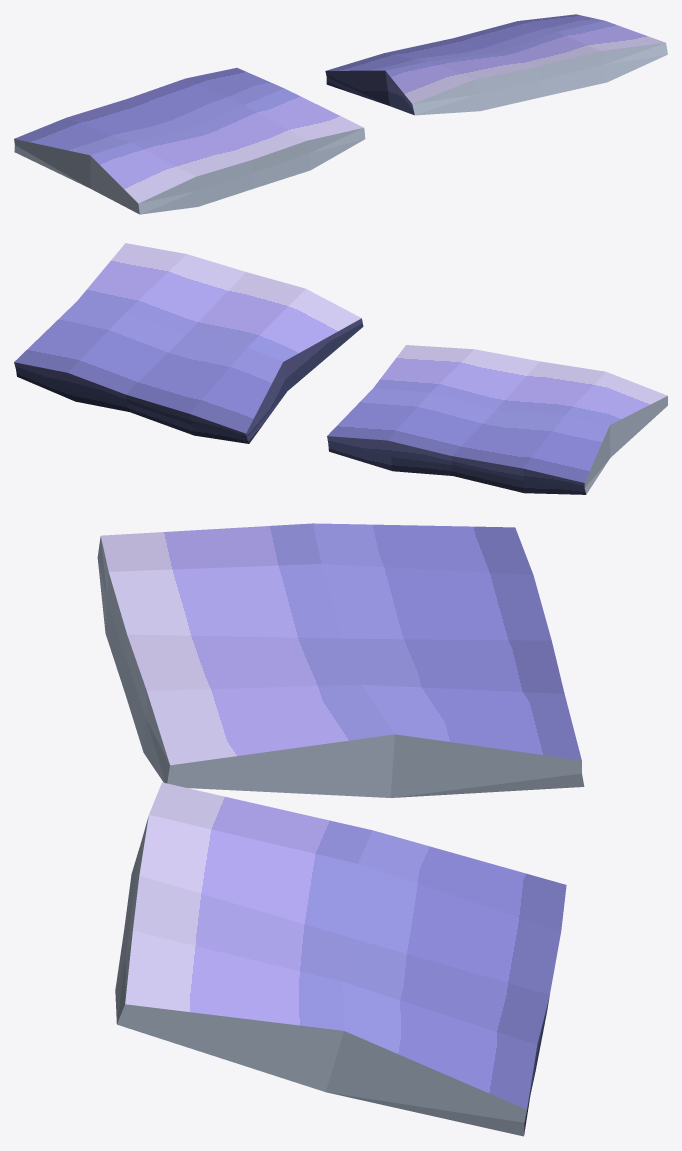
File: Accesories_pillows.001.glb
The picture shows the model from 3 angles, top to bottom: view 1: azimuth 30°, elevation 25°; view 2: azimuth 150°, elevation 25°; view 3: azimuth 270°, elevation 25°; orthographic projection. The views are drawn at different scales.
Visible parts, largest first — view 1: Accesories_pillows.001; view 2: Accesories_pillows.001; view 3: Accesories_pillows.001.
Boxes of the visible parts, x1,y1,x2,y2 form: Accesories_pillows.001: (14, 14, 667, 214); Accesories_pillows.001: (14, 243, 667, 494); Accesories_pillows.001: (97, 523, 584, 1136).
Size of the model in its own units: 1.23 by 0.1624 by 0.4572.
Materials: 1 (1 with a texture image).
